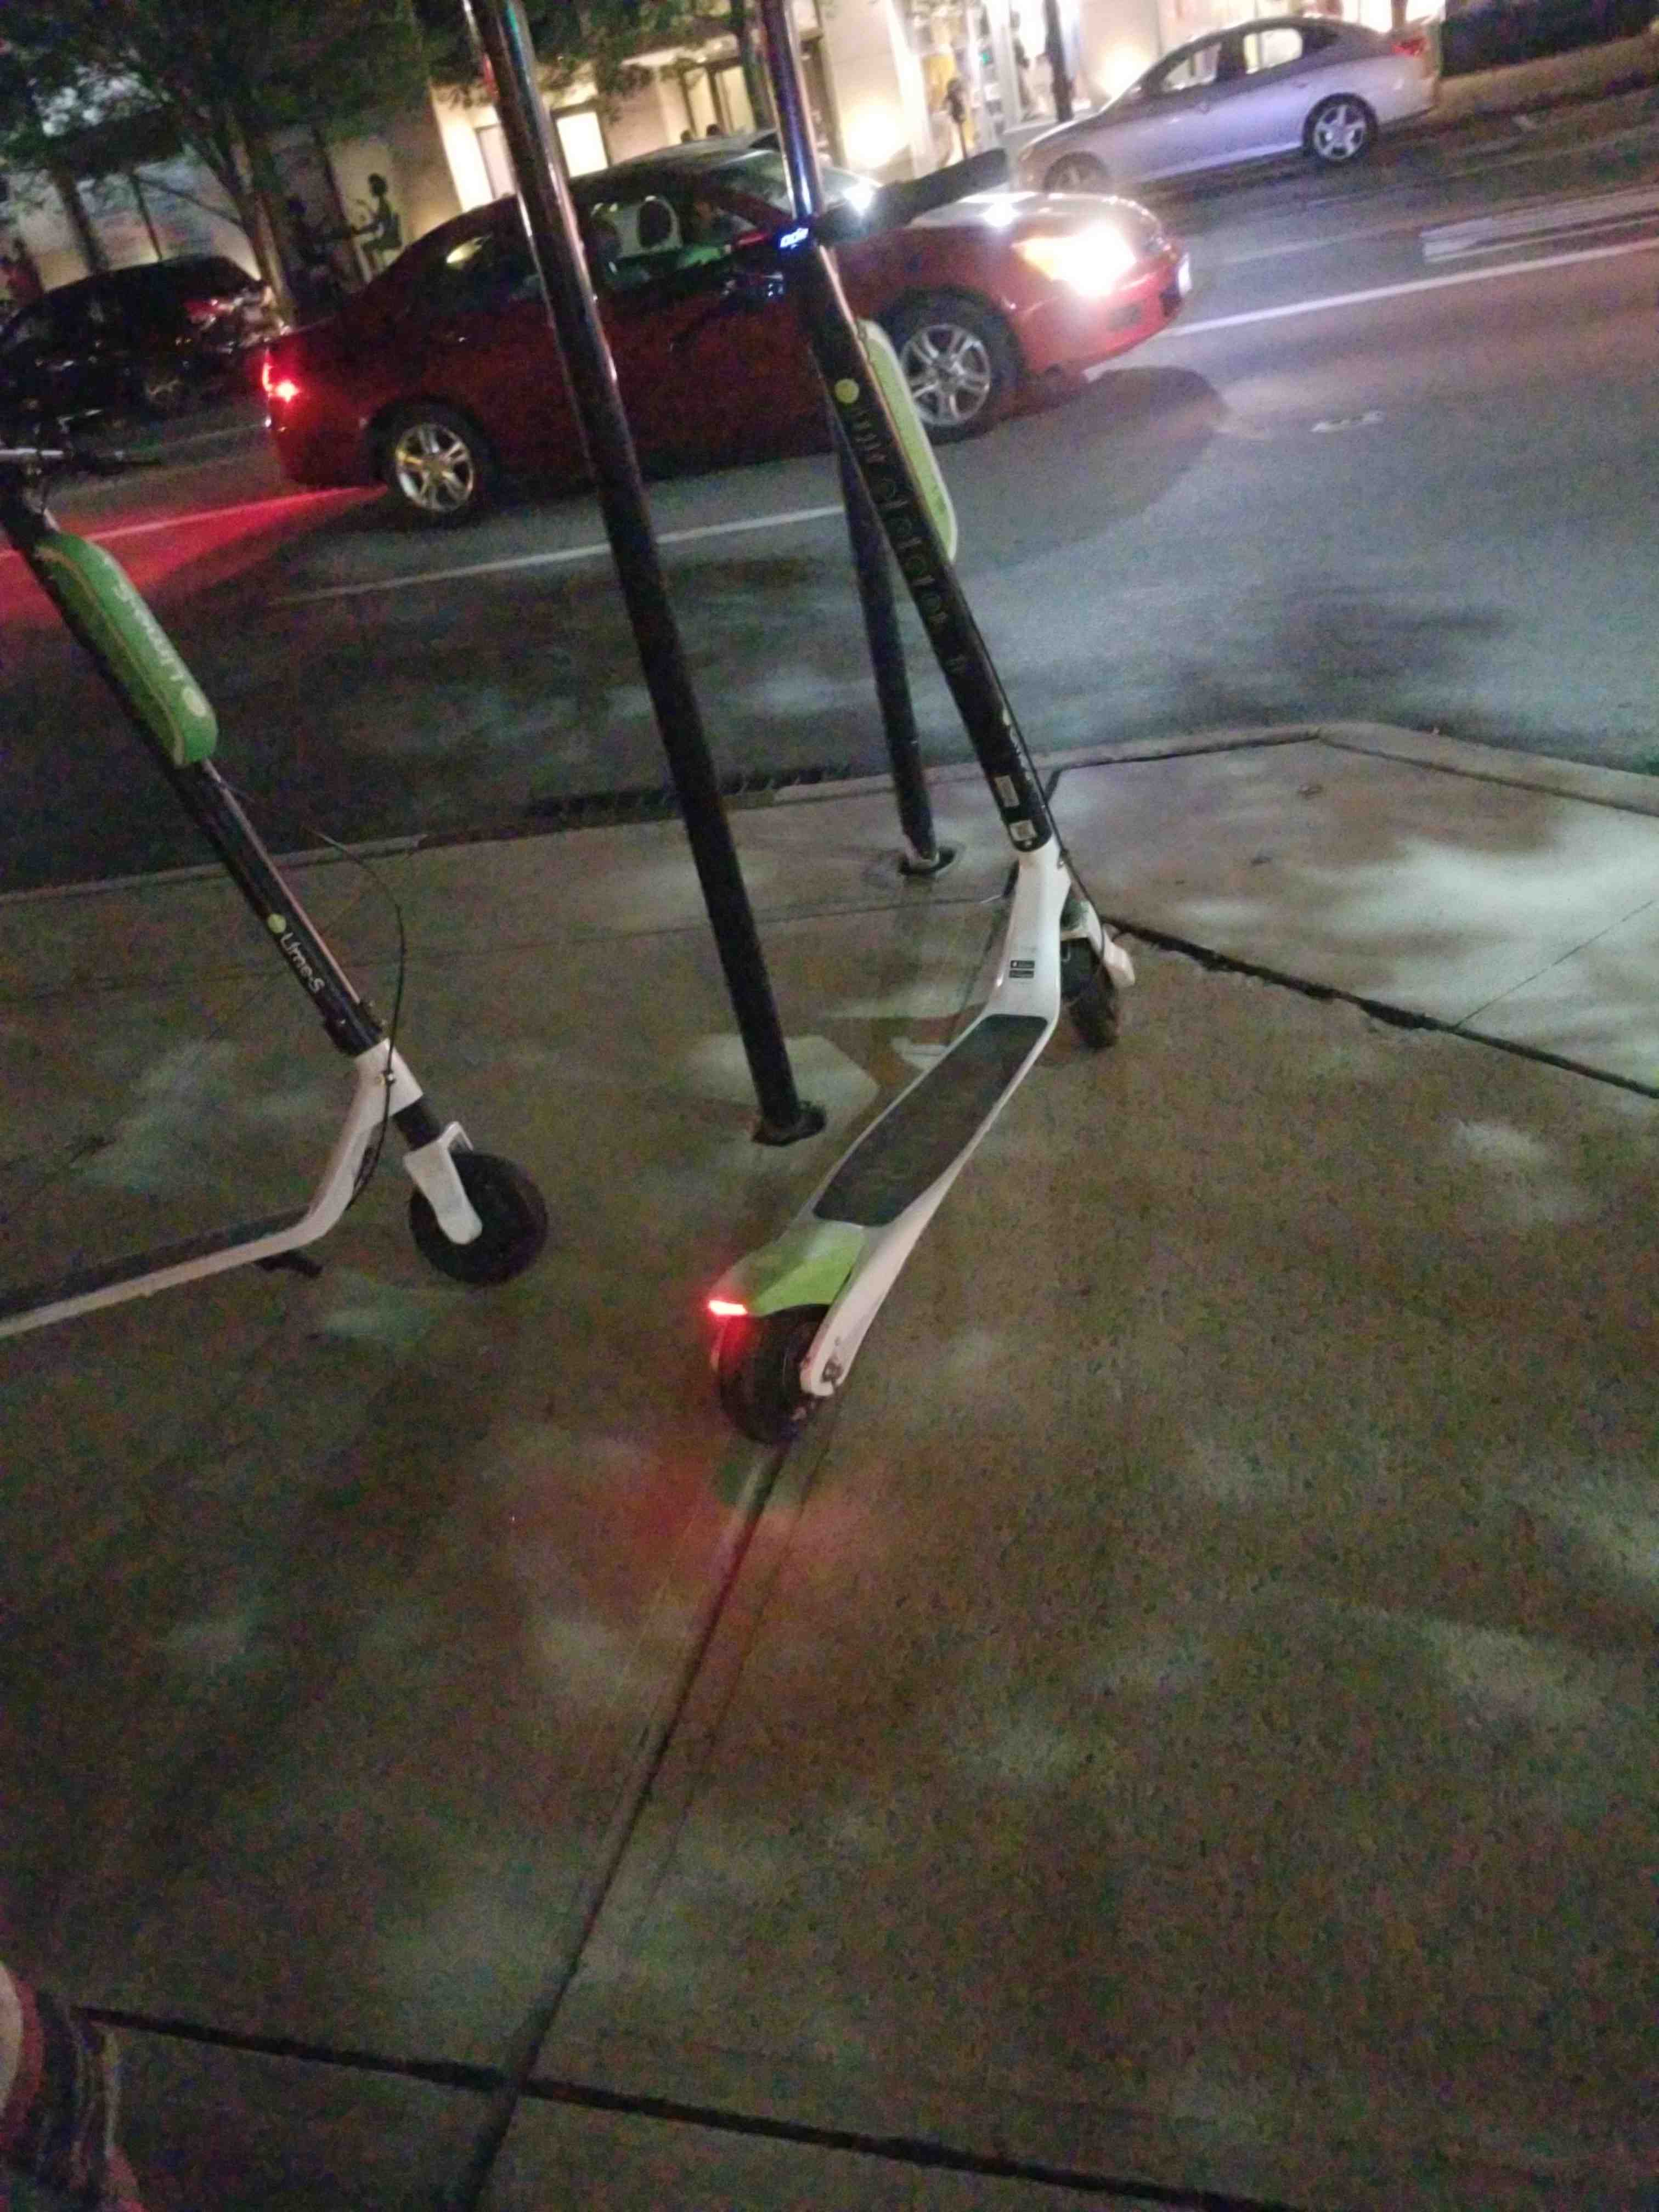scooter: (694, 125, 1145, 1479)
